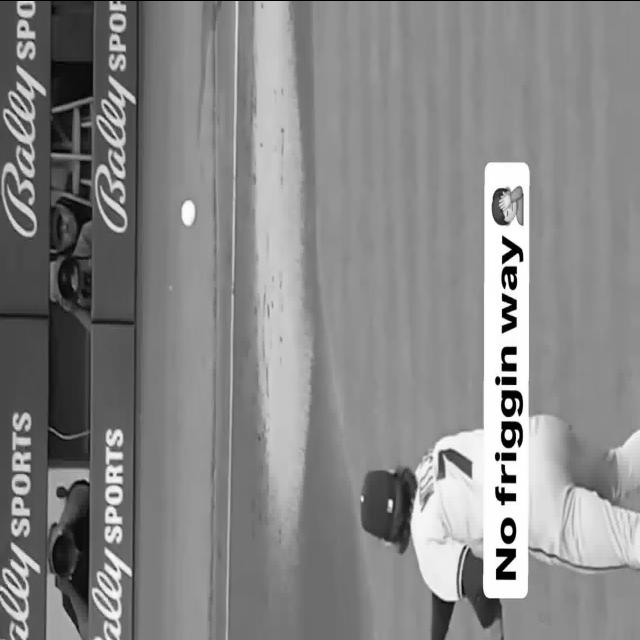baseball: (181, 198, 196, 227)
